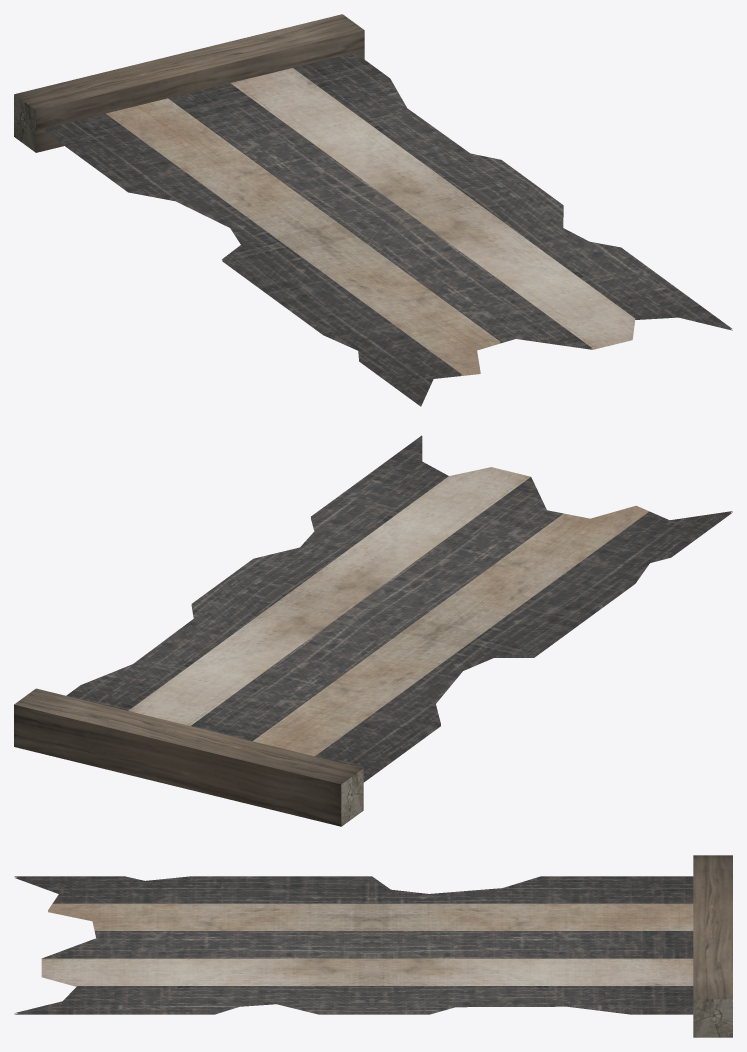
File: Pirate_Banner_Stripes_A.fbx
3 renders of one model, top to bottom at view 1: azimuth 30°, elevation 25°; view 2: azimuth 150°, elevation 25°; view 3: azimuth 270°, elevation 25°, orthographic. The views are drawn at different scales.
Parts seen in each view (by area): view 1: Pirate_Banner_Stripes_A; view 2: Pirate_Banner_Stripes_A; view 3: Pirate_Banner_Stripes_A.
Part boxes in pixels (x1,y1,x2,y2): Pirate_Banner_Stripes_A: (14, 14, 732, 406); Pirate_Banner_Stripes_A: (14, 435, 732, 826); Pirate_Banner_Stripes_A: (14, 855, 732, 1037).
Size of the model in its own units: 1.2 by 0.1485 by 2.54.
